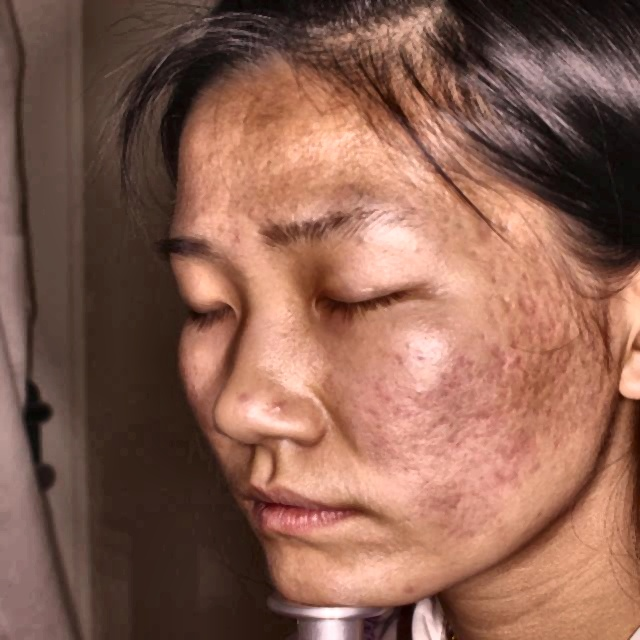comedone: (401, 577, 436, 600), (267, 396, 293, 416), (229, 387, 254, 405)
